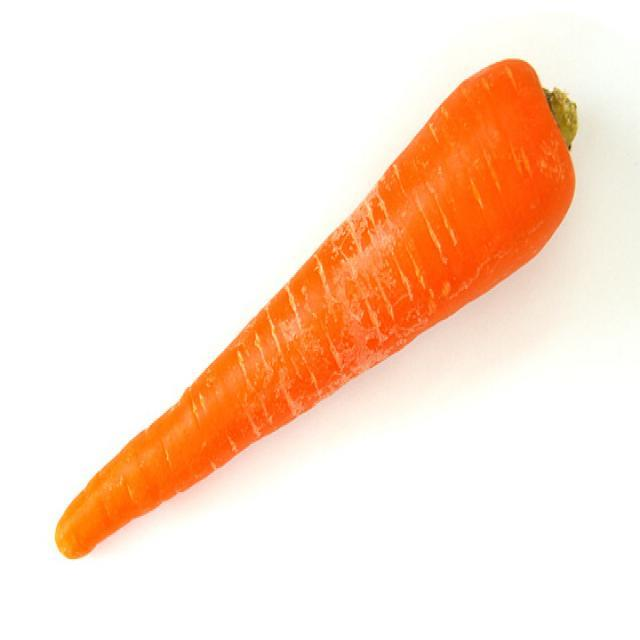Carrot: (58, 56, 586, 559)
